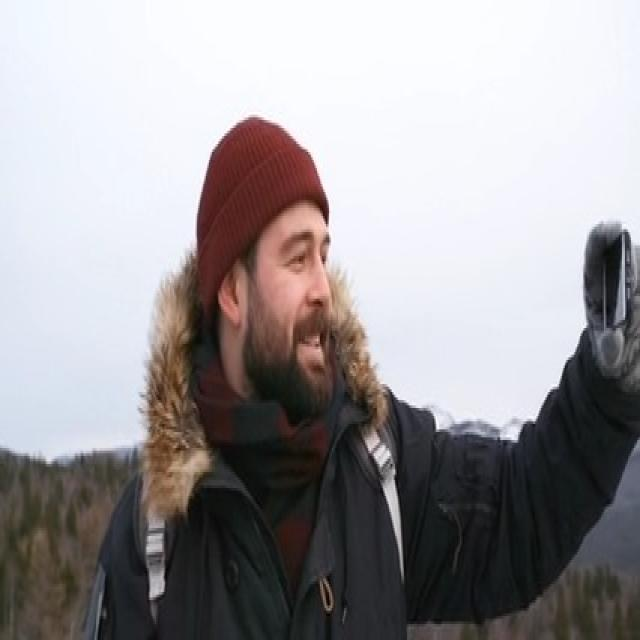Jacket_Wearer: (105, 311, 640, 639)
Person: (116, 126, 639, 640)
